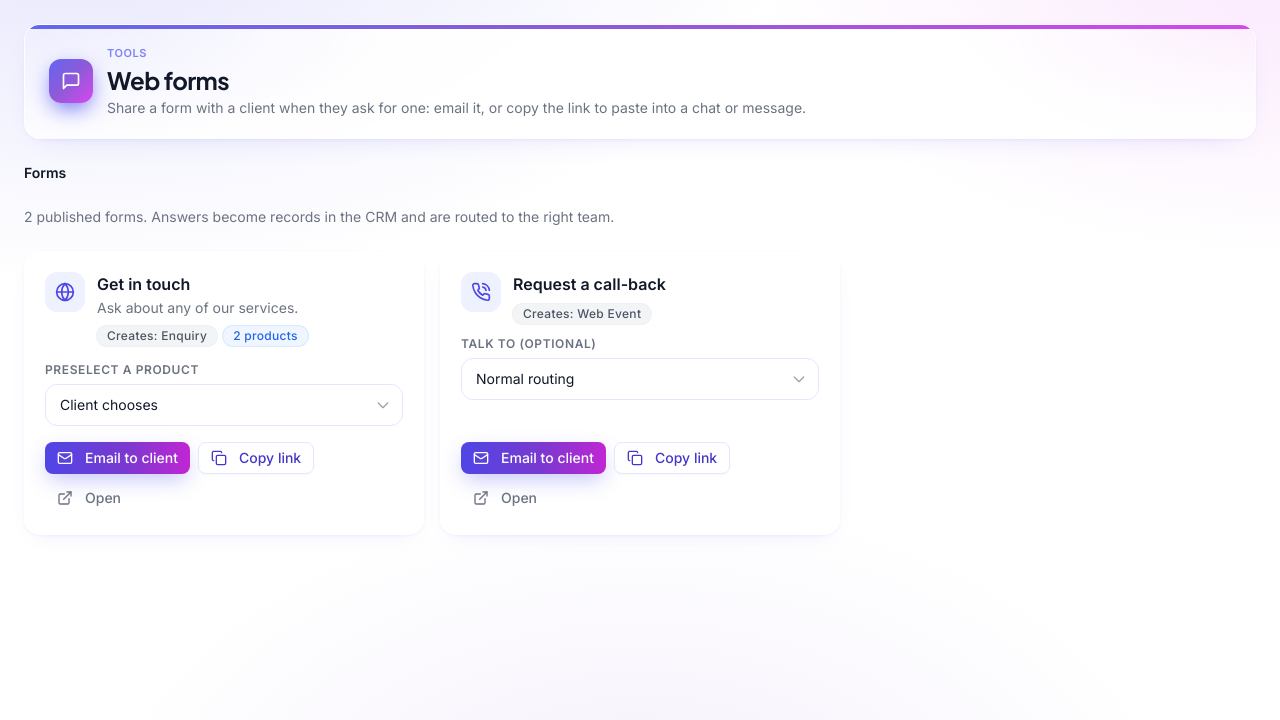
Test case: WebFormsPage › copies a link with the chosen product preselected
Step 1. Select "Income Fund" in the dropdown labelled "Preselect a product" → [224, 404], box [45,384,403,426]
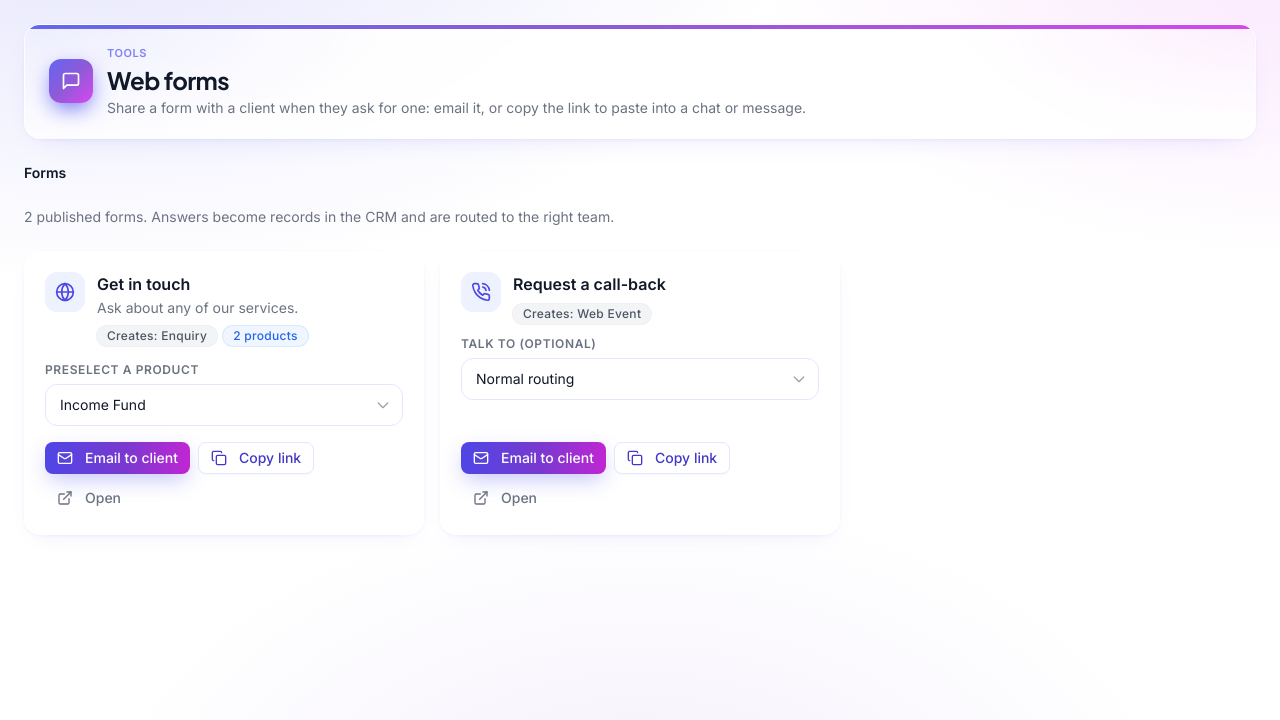
Step 2. Click the button "Copy link" below "Preselect a product" → [256, 458], box [198,442,314,474]
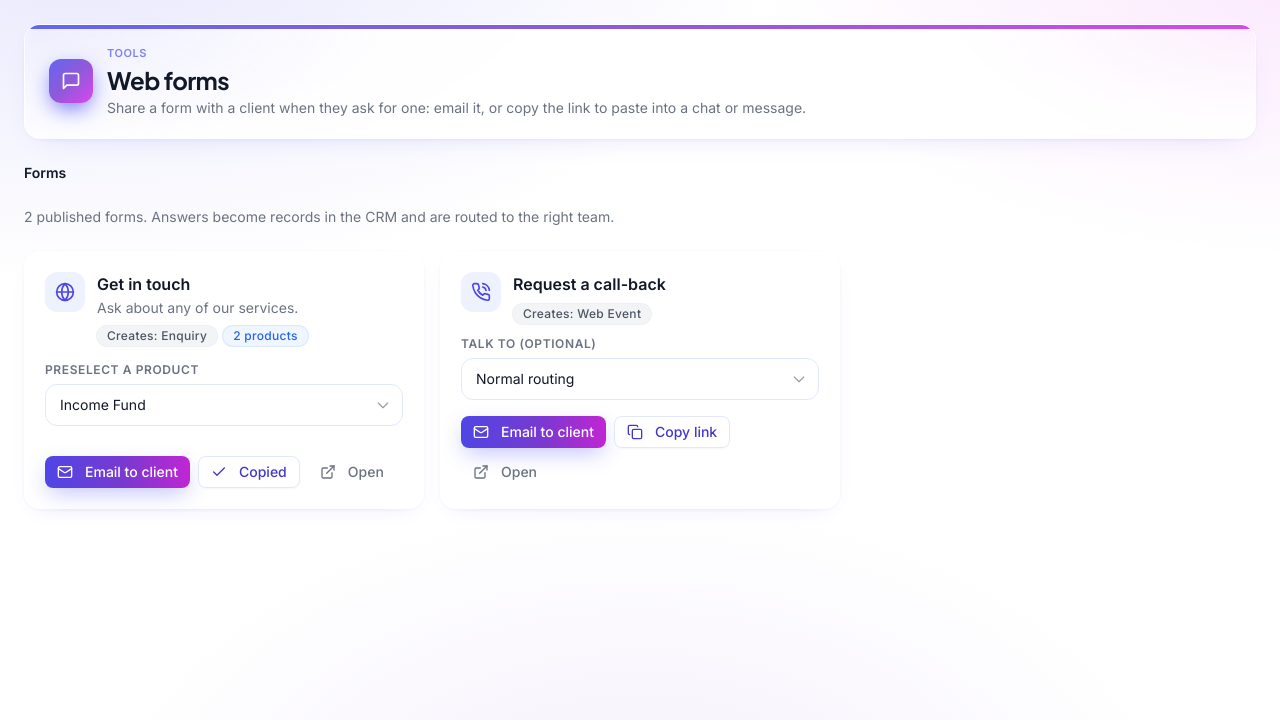
expect the button "Copied" is shown: met, box [198,456,300,488]
